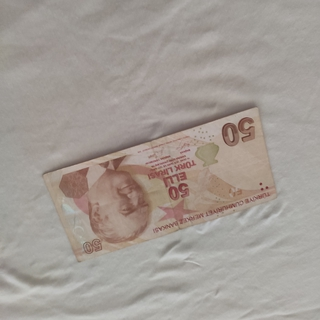50TLFront: (42, 105, 280, 262)
